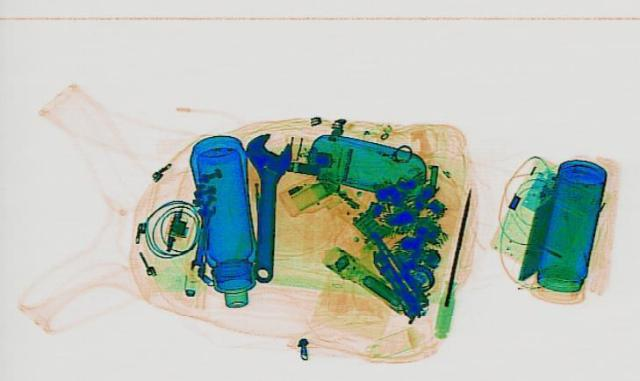Wrench: (232, 131, 292, 282)
